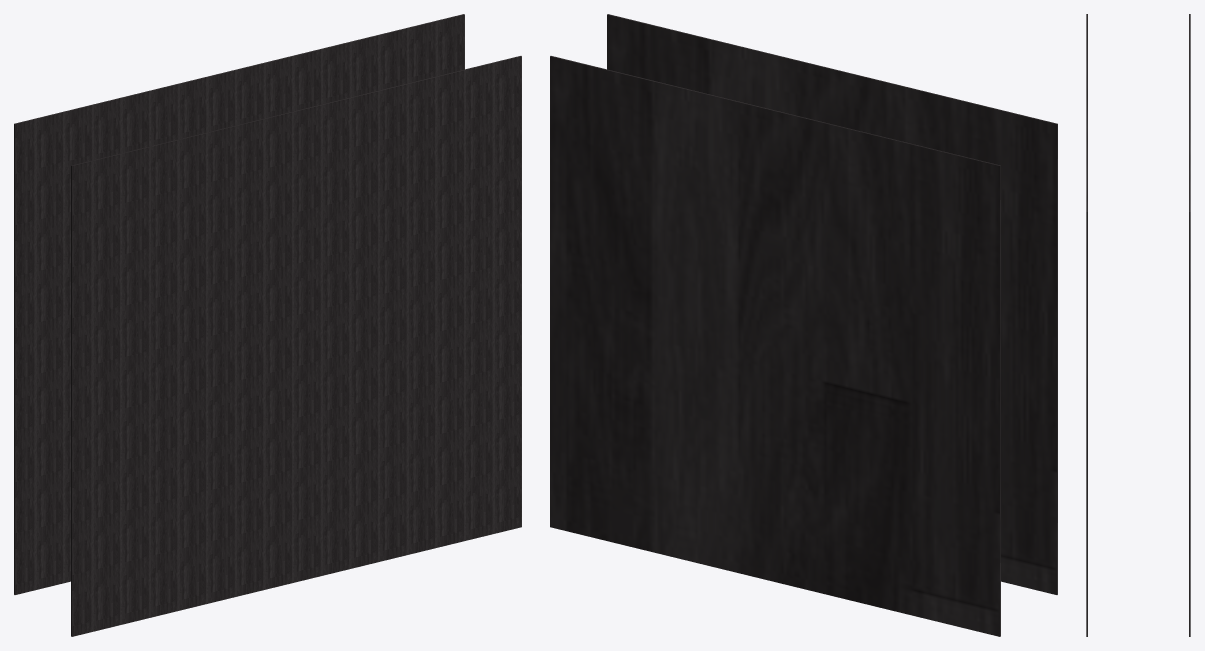
The model's file is floors.obj.
The picture shows the model from 3 angles, left to right: view 1: azimuth 30°, elevation 25°; view 2: azimuth 150°, elevation 25°; view 3: azimuth 270°, elevation 25°; orthographic projection. The views are drawn at different scales.
Parts seen in each view (by area): view 1: Cube.001, Cube.008; view 2: Cube.008, Cube.001; view 3: Cube.001, Cube.008.
Part boxes in pixels (x1=…): Cube.001: x1=71, y1=56, x2=521, y2=636; Cube.008: x1=14, y1=14, x2=464, y2=594; Cube.008: x1=550, y1=56, x2=1000, y2=636; Cube.001: x1=607, y1=14, x2=1057, y2=594; Cube.001: x1=1086, y1=14, x2=1087, y2=636; Cube.008: x1=1189, y1=14, x2=1190, y2=636.
Bounding box in the file's own units: 30 × 30 × 6.68.
